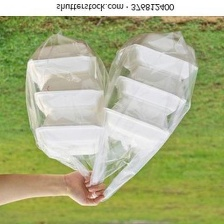foam_box: (115, 29, 200, 88), (107, 61, 189, 118), (99, 92, 173, 148), (25, 39, 101, 91), (33, 106, 107, 159), (29, 73, 109, 119)
plastic_bag: (79, 23, 202, 205), (24, 27, 108, 201)
